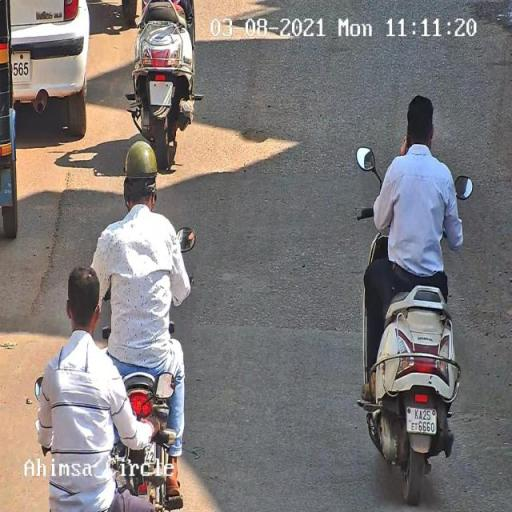using mobile: (401, 130, 413, 156)
